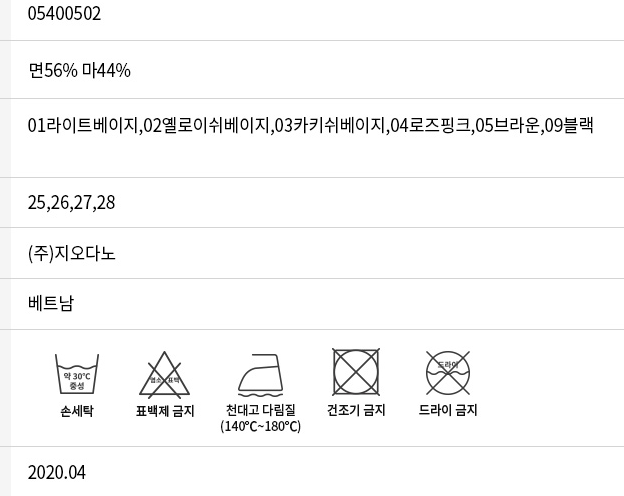KR_hand_wash_30_neutral: (50, 346, 104, 400)
KR_no_chlorine_bleach: (135, 346, 194, 401)
KR_no_dry_clean: (422, 346, 476, 399)
KR_no_tumble_dry: (328, 343, 384, 401)
